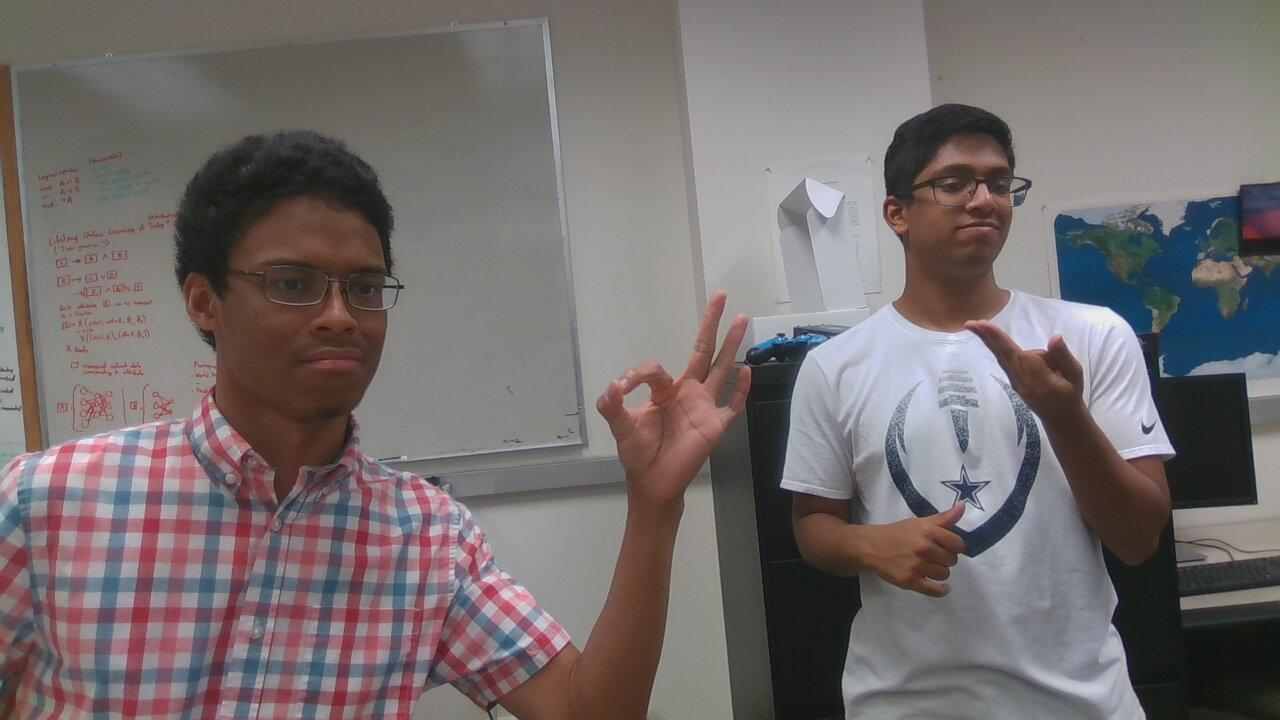hands: (586, 298, 782, 511), (946, 289, 1113, 446), (858, 478, 997, 624)
